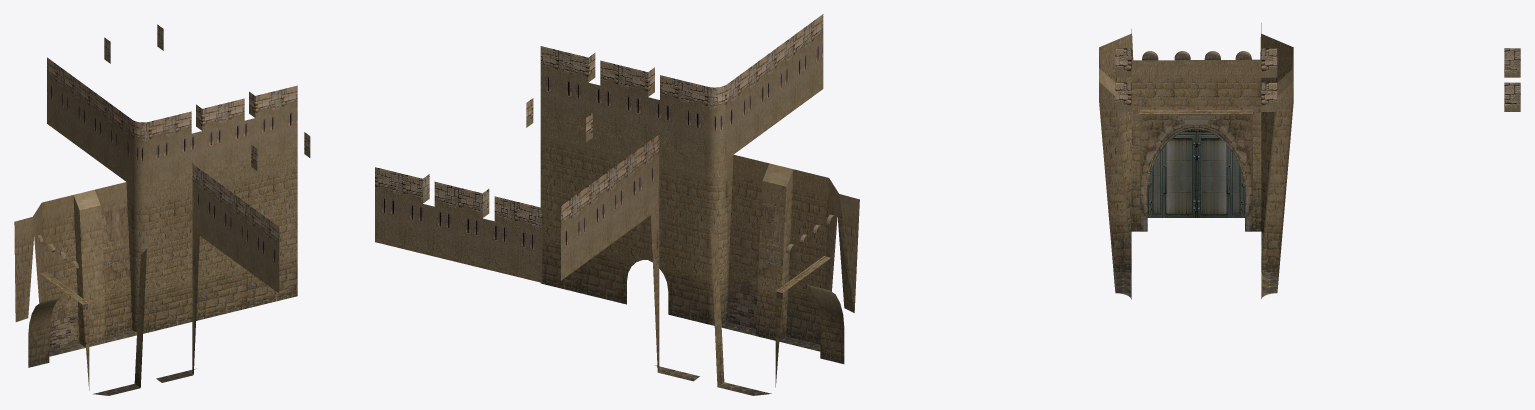
The model's file is M7Z1_CityWall1A.glb.
3 renders of one model, left to right at view 1: azimuth 30°, elevation 25°; view 2: azimuth 150°, elevation 25°; view 3: azimuth 270°, elevation 25°, orthographic. The views are drawn at different scales.
Visible parts, largest first — view 1: M7Z1_CITYWALL1A; view 2: M7Z1_CITYWALL1A; view 3: M7Z1_CITYWALL1A.
Part boxes in pixels (x1,y1,x2,y2): M7Z1_CITYWALL1A: [14, 24, 310, 395]; M7Z1_CITYWALL1A: [375, 14, 859, 395]; M7Z1_CITYWALL1A: [1099, 23, 1520, 299].
Bounding box in the file's own units: 26.73 × 19 × 39.
Materials: 9 (9 with a texture image).
